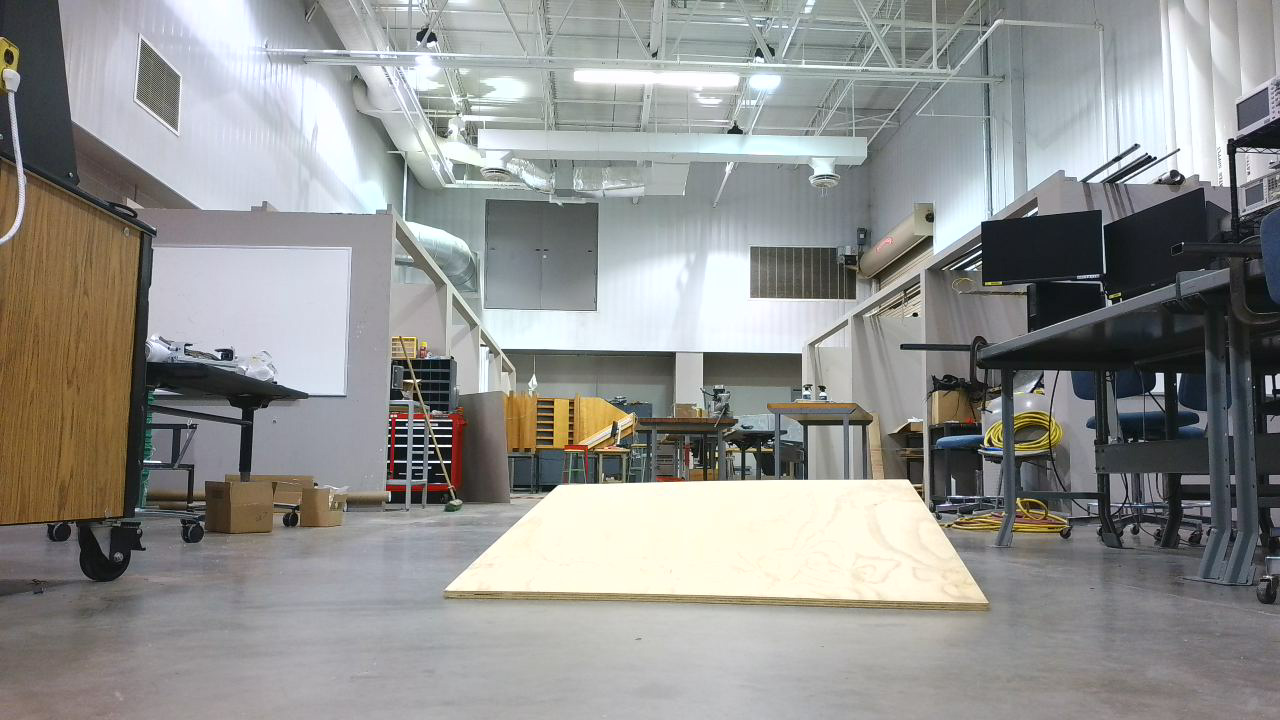ramp: (446, 480, 1016, 620)
